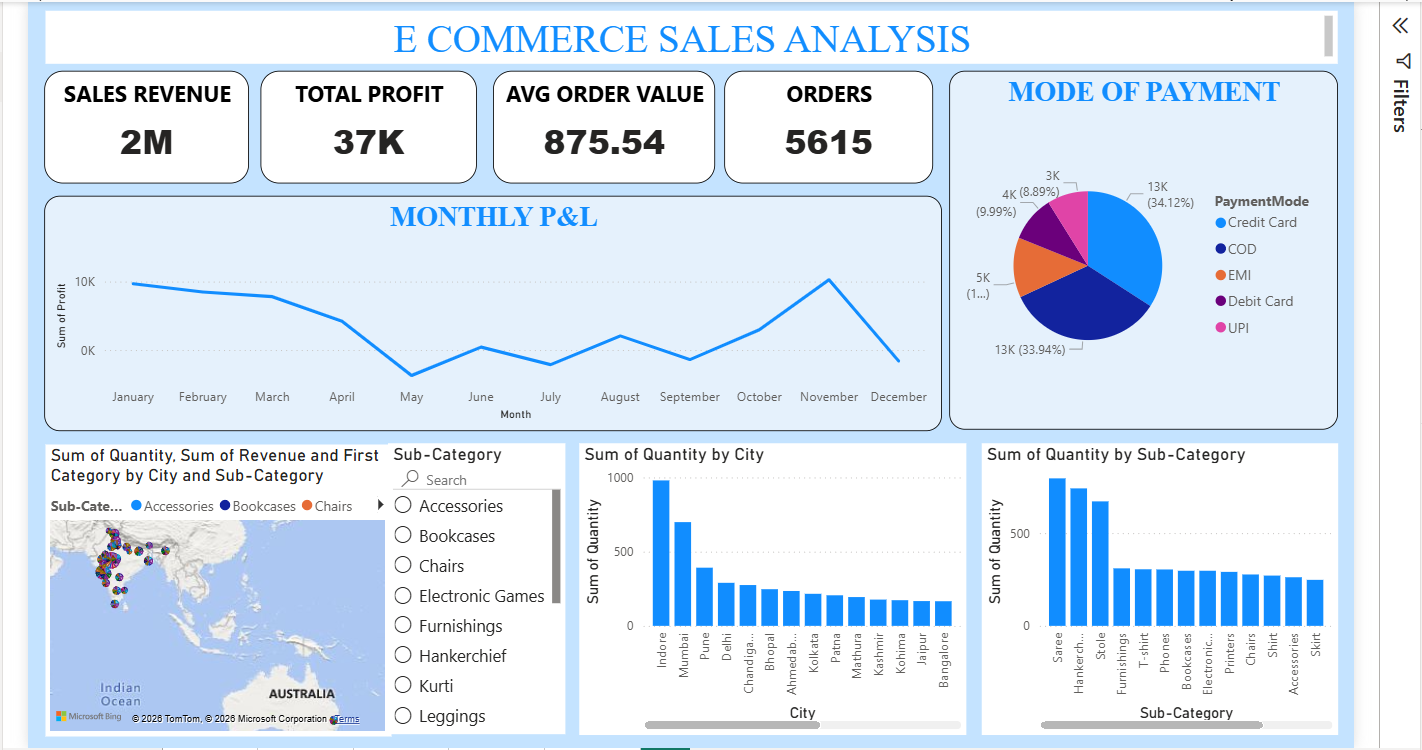

The dashboard page shown, as its layout file describes it:
{"tool":"powerbi","page":{"name":"Page 5","canvas":[1280,720],"ordinal":4},"visuals":[{"type":"card","title":"SALES REVENUE","fields":{"Values":["Sum(Details.Revenue)"]},"box":[15.7,66.4,197.9,108.6],"z":0},{"type":"card","title":"TOTAL PROFIT","fields":{"Values":["Sum(Details.Profit)"]},"box":[224.4,66.4,208.7,108.6],"z":1000},{"type":"card","title":"ORDERS ","fields":{"Values":["Details.UNIT SOLD"]},"box":[672,66.4,201.5,108.6],"z":2000},{"type":"card","title":"AVG ORDER VALUE","fields":{"Values":["Details.avg order Value"]},"box":[448.8,66.4,214.7,108.6],"z":3000},{"type":"lineChart","title":"MONTHLY P&L ","fields":{"Category":["Orders.Order Date.Variation.Date Hierarchy.Month"],"Y":["Avg(Details.Profit)"]},"box":[16.2,187.5,866.2,227.5],"z":4000},{"type":"pieChart","title":"MODE OF PAYMENT","fields":{"Category":["Details.PaymentMode"],"Y":["Sum(Details.Profit)"]},"box":[889.1,66.4,375.2,346.2],"z":5000},{"type":"map","fields":{"Category":["Orders.City"],"Series":["Details.Sub-Category"],"Size":["Sum(Details.Quantity)"]},"box":[16.7,426.7,333.3,281.7],"z":6000},{"type":"listSlicer","fields":{"Values":["Details.Sub-Category"]},"box":[347.5,425.9,171.3,281.1],"z":7000},{"type":"clusteredColumnChart","fields":{"Category":["Details.Sub-Category"],"Y":["Sum(Details.Quantity)"]},"box":[920,426.2,343.8,281.2],"z":8000},{"type":"columnChart","fields":{"Category":["Orders.City"],"Y":["Sum(Details.Quantity)"]},"box":[532.5,426.2,373.8,281.2],"z":9000},{"type":"textbox","box":[16.9,8.4,1247.5,51],"z":10000}]}

Visuals, with their boxes on the page's 1280x720 design canvas (x1, y1, x2, y2). These are canvas units, not pixel positions in the 1422x750 screenshot, which may show the page scaled, cropped or inside an application window:
"SALES REVENUE" card: bbox=(16, 66, 214, 175)
"TOTAL PROFIT" card: bbox=(224, 66, 433, 175)
"ORDERS " card: bbox=(672, 66, 874, 175)
"AVG ORDER VALUE" card: bbox=(449, 66, 664, 175)
"MONTHLY P&L " lineChart: bbox=(16, 188, 882, 415)
"MODE OF PAYMENT" pieChart: bbox=(889, 66, 1264, 413)
map - Orders.City x Details.Sub-Category: bbox=(17, 427, 350, 708)
listSlicer - Details.Sub-Category: bbox=(348, 426, 519, 707)
clusteredColumnChart - Details.Sub-Category x Sum(Details.Quantity): bbox=(920, 426, 1264, 707)
columnChart - Orders.City x Sum(Details.Quantity): bbox=(532, 426, 906, 707)
textbox: bbox=(17, 8, 1264, 59)
